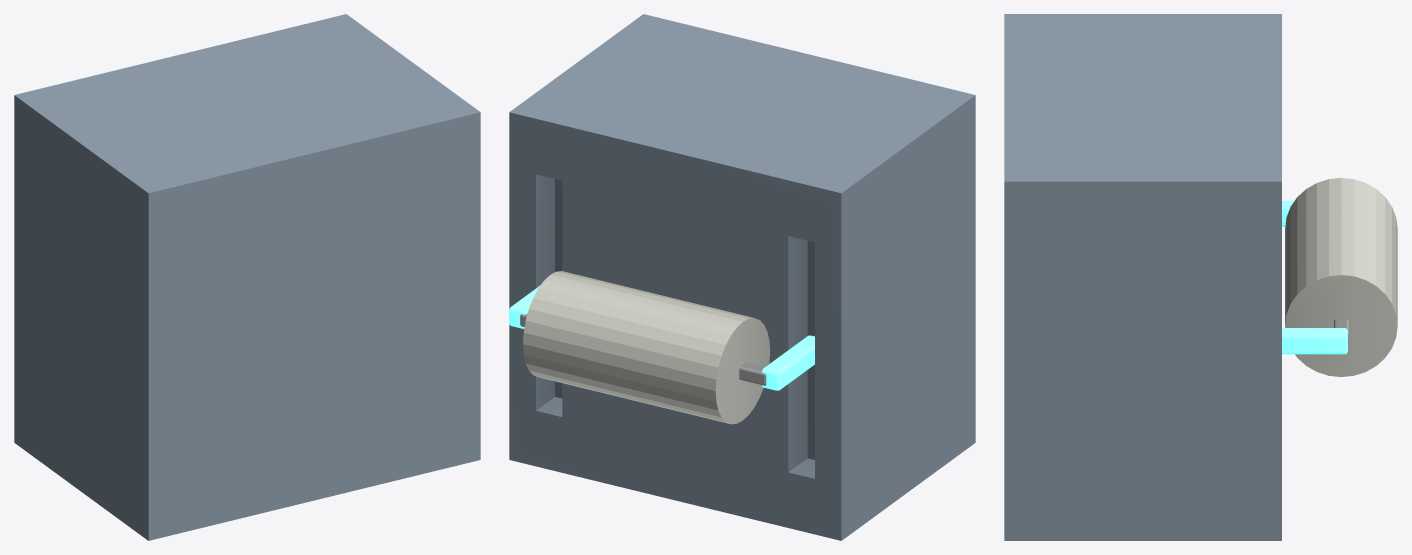
The picture shows the model from 3 angles, left to right: view 1: azimuth 30°, elevation 25°; view 2: azimuth 150°, elevation 25°; view 3: azimuth 270°, elevation 25°; orthographic projection. The views are drawn at different scales.
Visible parts, largest first — view 1: Part_Body; view 2: Part_Body, Part_Brush, Part_Signal, Part_Metal; view 3: Part_Body, Part_Brush, Part_Signal.
Part boxes in pixels (left/top/right/bottom): Part_Body: left=14, top=14, right=480, bottom=540; Part_Body: left=509, top=14, right=975, bottom=540; Part_Brush: left=523, top=271, right=769, bottom=424; Part_Signal: left=509, top=285, right=814, bottom=390; Part_Metal: left=520, top=314, right=766, bottom=385; Part_Body: left=1004, top=14, right=1281, bottom=540; Part_Brush: left=1285, top=178, right=1397, bottom=376; Part_Signal: left=1282, top=200, right=1347, bottom=354.
Size of the model in its own units: 1 by 1 by 0.992.
